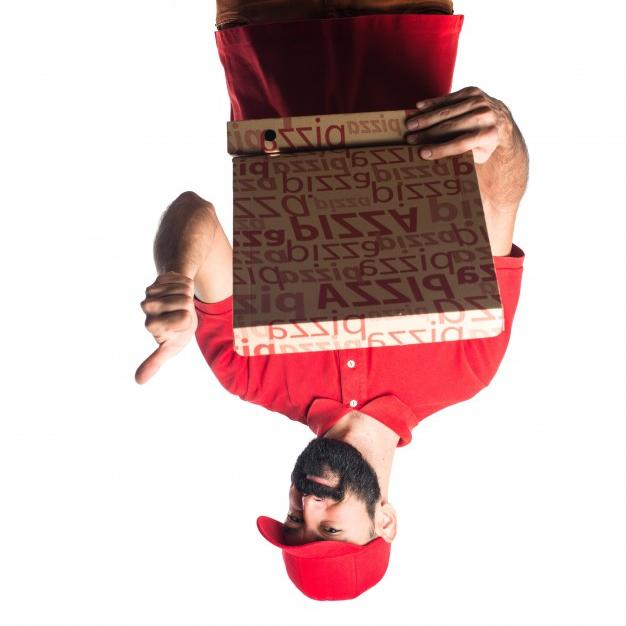thumbsdown: (135, 271, 194, 385)
